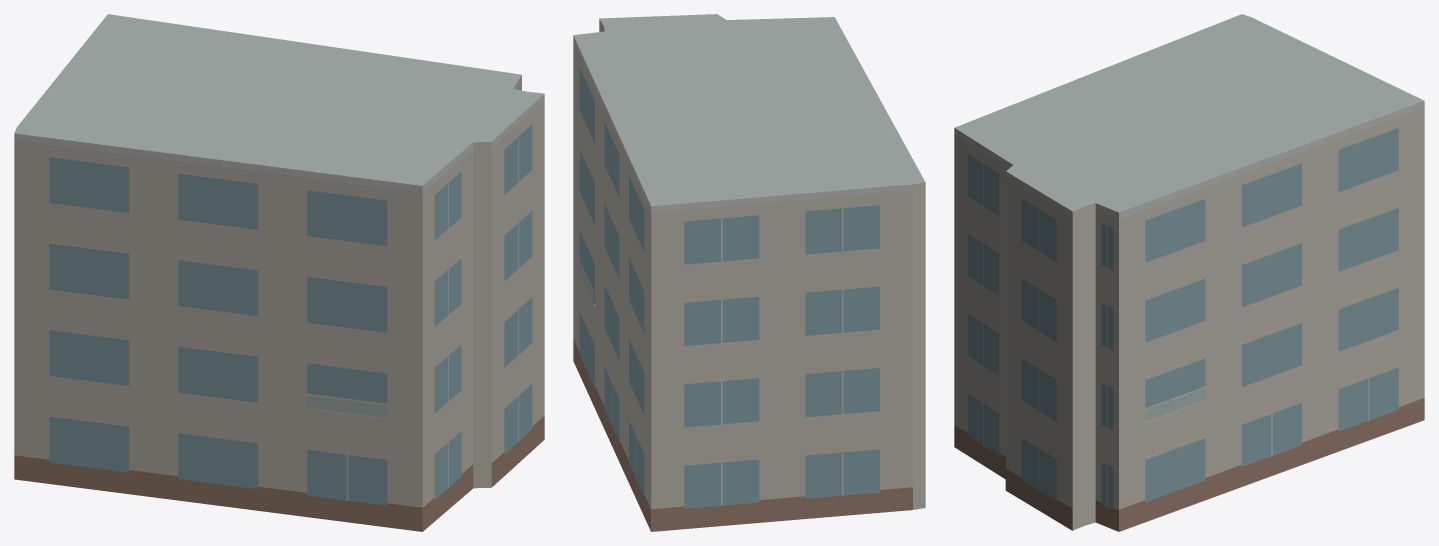
File: survey-upis-32693953.glb
The picture shows the model from 3 angles, left to right: view 1: azimuth 30°, elevation 25°; view 2: azimuth 150°, elevation 25°; view 3: azimuth 270°, elevation 25°; orthographic projection. The views are drawn at different scales.
Parts seen in each view (by area): view 1: survey-upis-32693953.tmp; view 2: survey-upis-32693953.tmp; view 3: survey-upis-32693953.tmp.
Part boxes in pixels (x1,y1,x2,y2): survey-upis-32693953.tmp: (14,14,544,531); survey-upis-32693953.tmp: (573,14,925,531); survey-upis-32693953.tmp: (954,14,1424,531).
Size of the model in its own units: 16.28 by 12.2 by 16.3.
